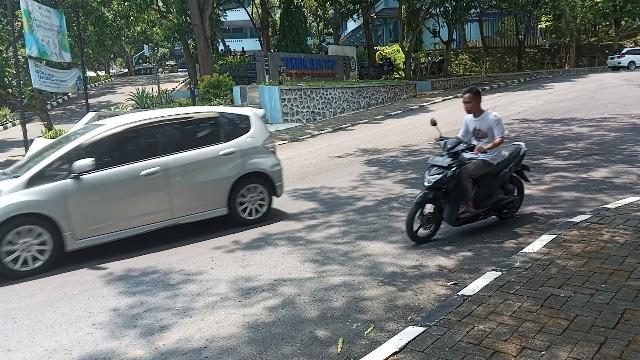motor: (407, 119, 535, 246)
non-helm: (463, 87, 484, 116)
